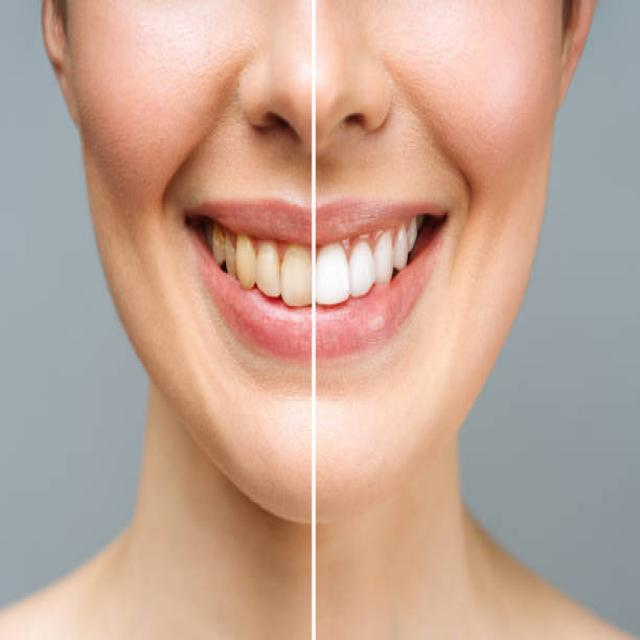tooth: (318, 248, 350, 303), (255, 244, 280, 296), (286, 250, 312, 300), (231, 235, 257, 282), (374, 229, 390, 276), (356, 248, 374, 288), (210, 229, 227, 262), (224, 233, 237, 274), (399, 232, 409, 267)
